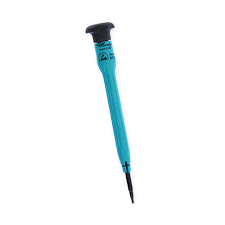Screwdriver: (75, 17, 156, 211)
